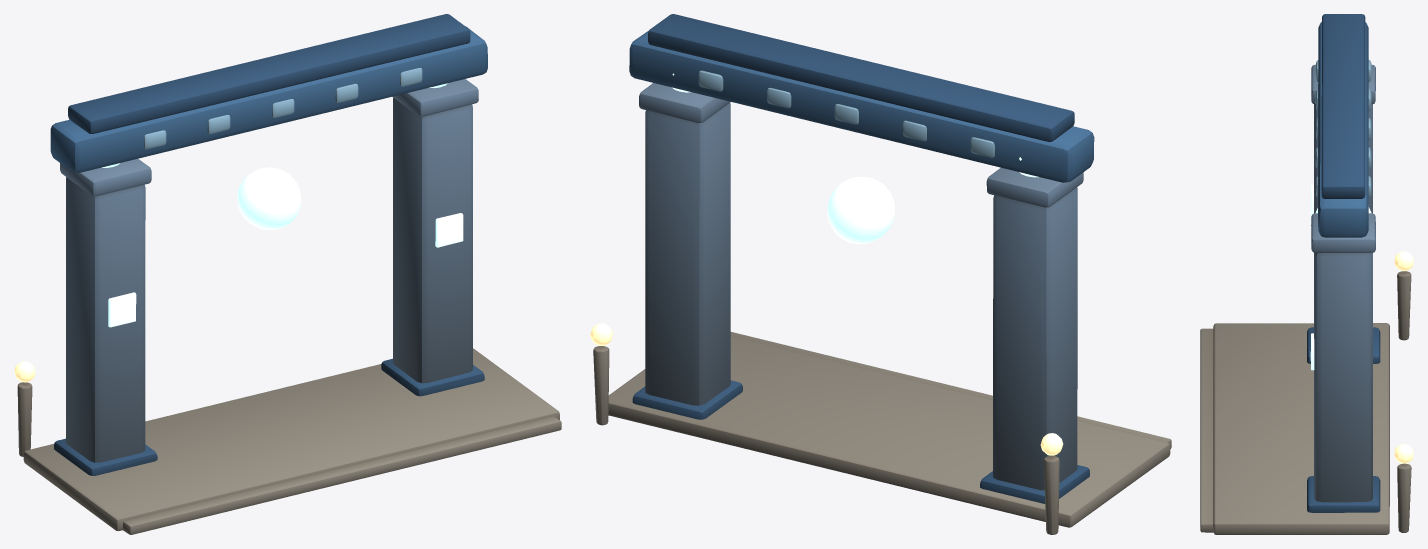
3 views of the same model, side by side, from view 1: azimuth 30°, elevation 25°; view 2: azimuth 150°, elevation 25°; view 3: azimuth 270°, elevation 25° (orthographic). The views are drawn at different scales.
Parts seen in each view (by area): view 1: gate_8c643e51; view 2: gate_8c643e51; view 3: gate_8c643e51.
Part boxes in pixels (x1,y1,x2,y2): gate_8c643e51: (14, 14, 561, 534); gate_8c643e51: (590, 14, 1171, 534); gate_8c643e51: (1200, 14, 1413, 534).
Size of the model in its own units: 5.7 by 4.43 by 2.54.
